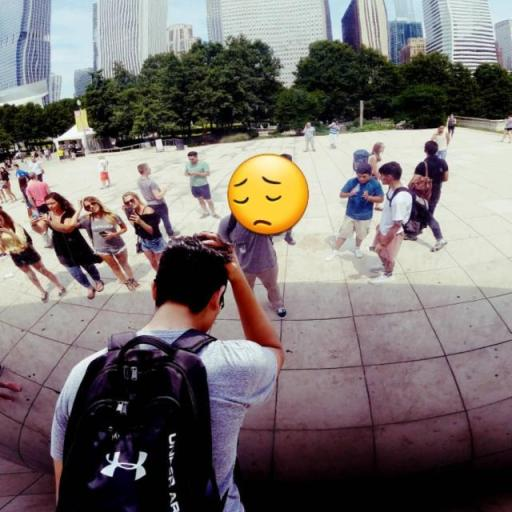Under Armour: (96, 447, 148, 483)
